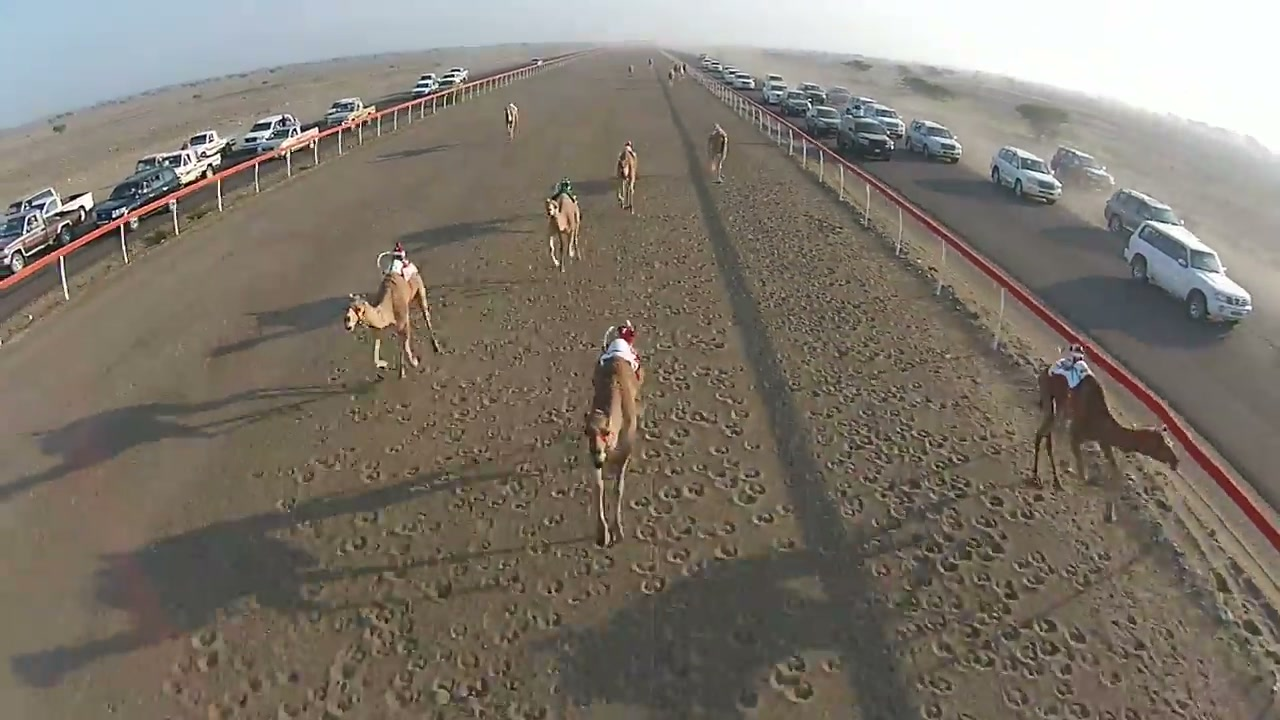animal_footprint: (64, 144, 1270, 719)
